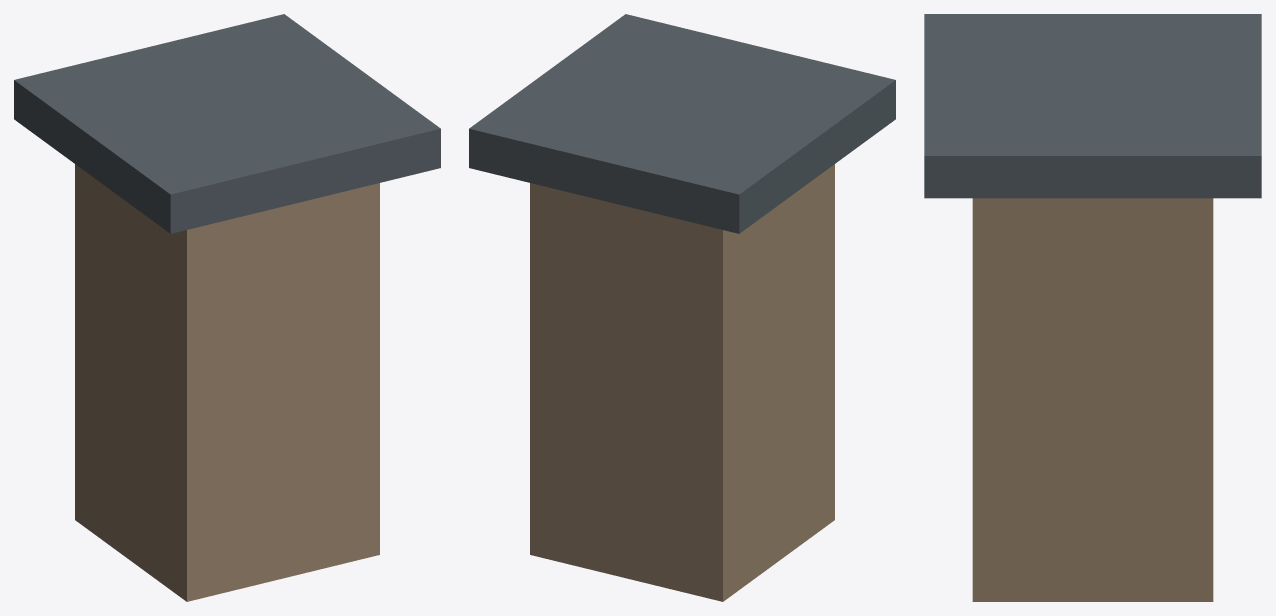
The model's file is iz2_retaining_wall_step.glb.
3 renders of one model, left to right at view 1: azimuth 30°, elevation 25°; view 2: azimuth 150°, elevation 25°; view 3: azimuth 270°, elevation 25°, orthographic. The views are drawn at different scales.
Parts seen in each view (by area): view 1: body; view 2: body; view 3: body.
Boxes of the visible parts, bbox=[...] form: body: bbox=[14, 14, 440, 601]; body: bbox=[469, 14, 895, 601]; body: bbox=[924, 14, 1261, 601].
Bounding box in the file's own units: 0.7147 × 1.09 × 0.7175.
